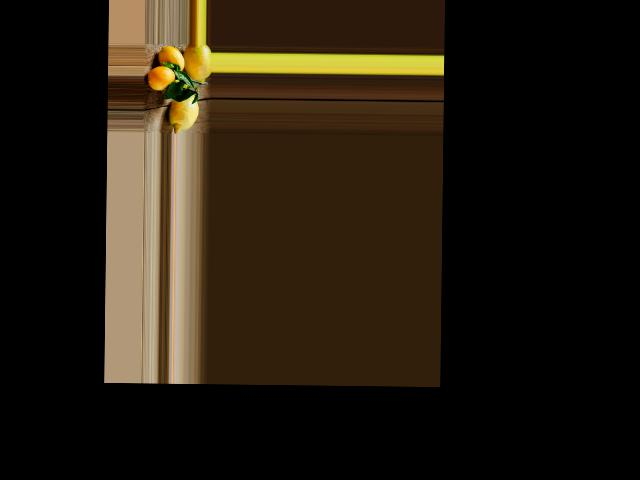lemon: (164, 86, 199, 133)
